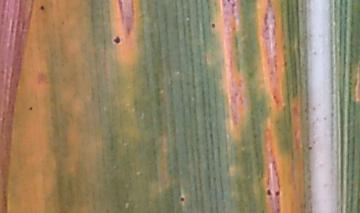tarspot: (111, 34, 122, 46), (265, 187, 272, 198), (178, 195, 186, 203), (274, 189, 282, 197), (39, 4, 46, 11), (209, 22, 217, 28), (28, 105, 34, 112), (225, 1, 231, 2)
